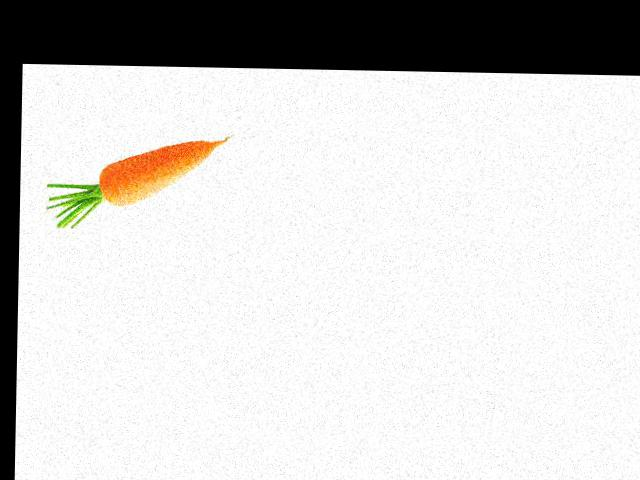carrot: (92, 130, 224, 209)
